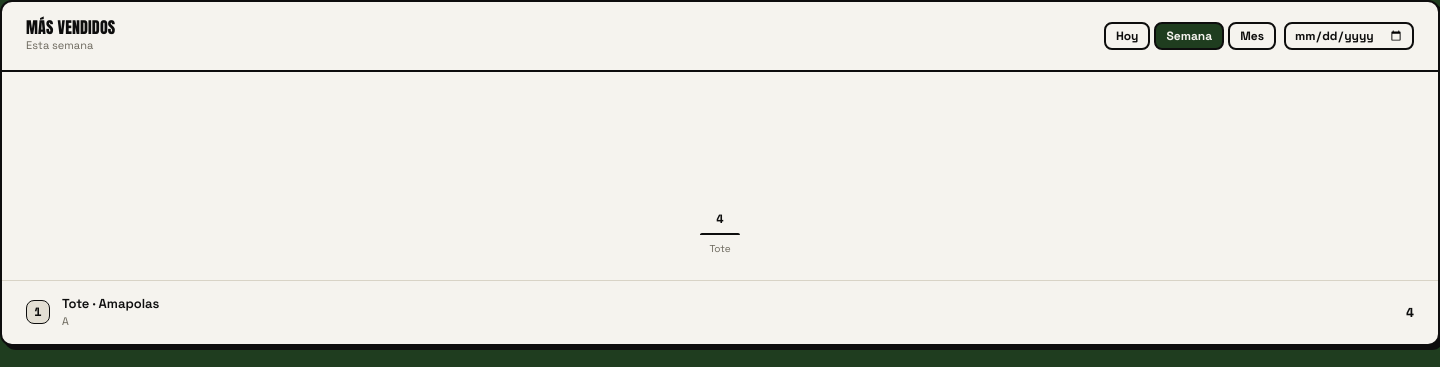
Test: TopProductsSection — cambio de periodo › clic en Hoy refetchea y reemplaza la lista
Click the button "Hoy".
click(1127, 36)  # box [1104,22,1150,50]
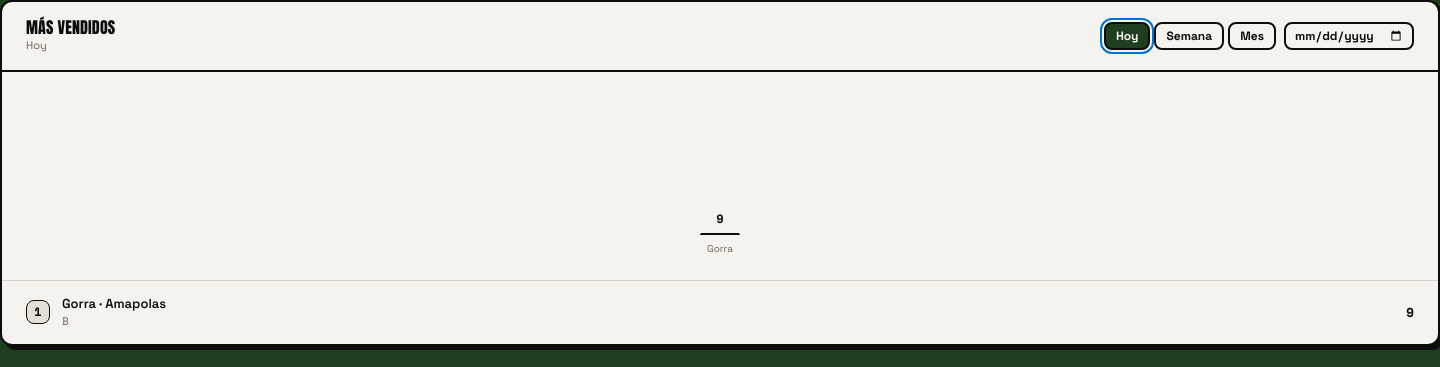
Expected: the text "Gorra" is shown, [707,242,733,255]
Expected: the text "Tote" is gone
